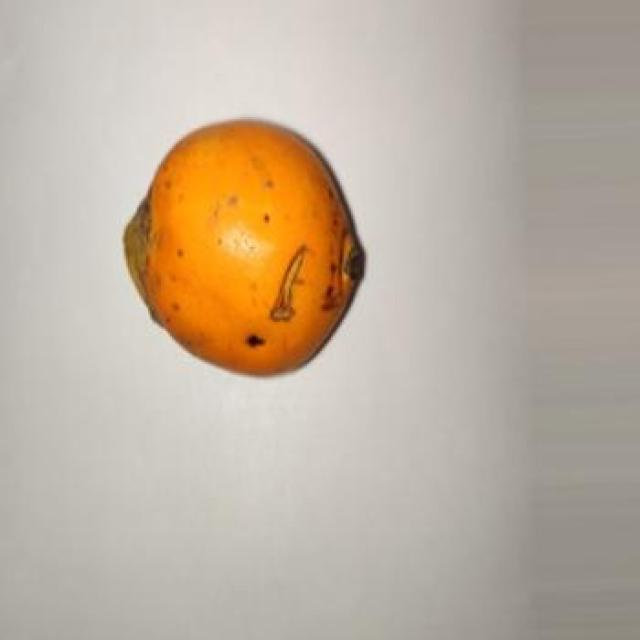good: (123, 121, 366, 380)
